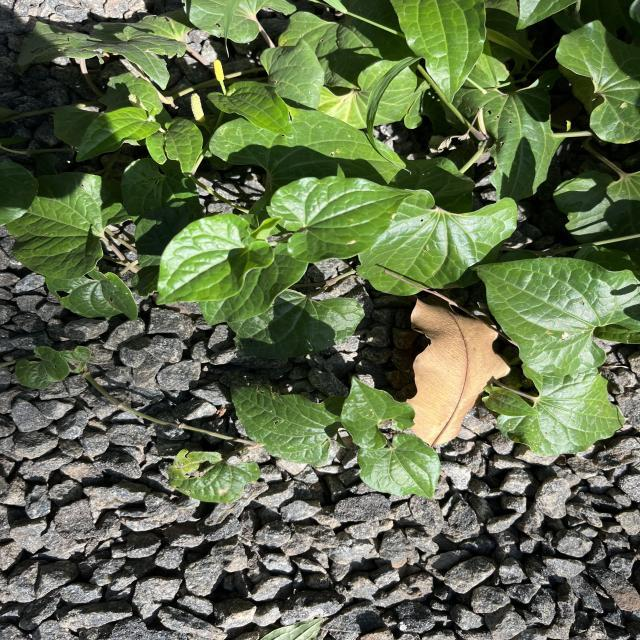Piper longum: (468, 255, 640, 380), (356, 430, 442, 500), (338, 374, 416, 451)
